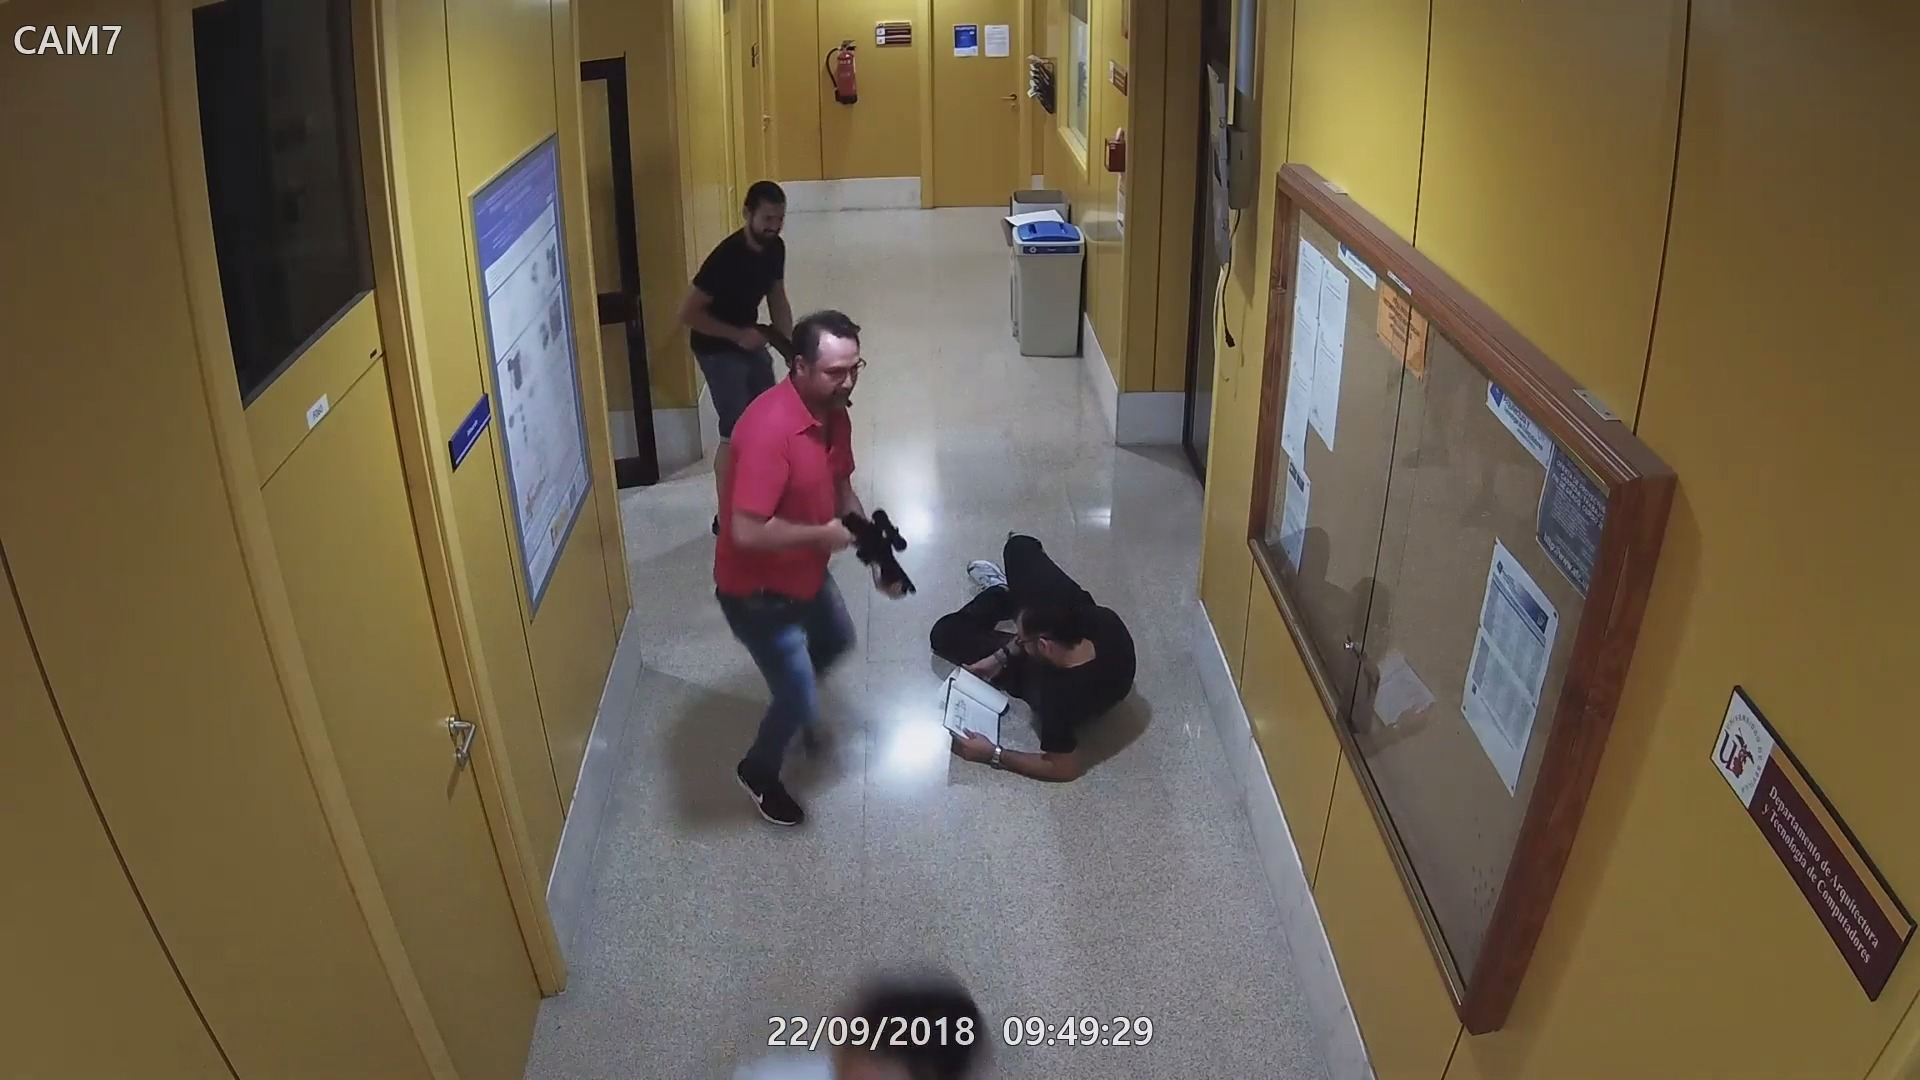Short_rifle: (837, 501, 920, 596), (746, 307, 791, 371)
